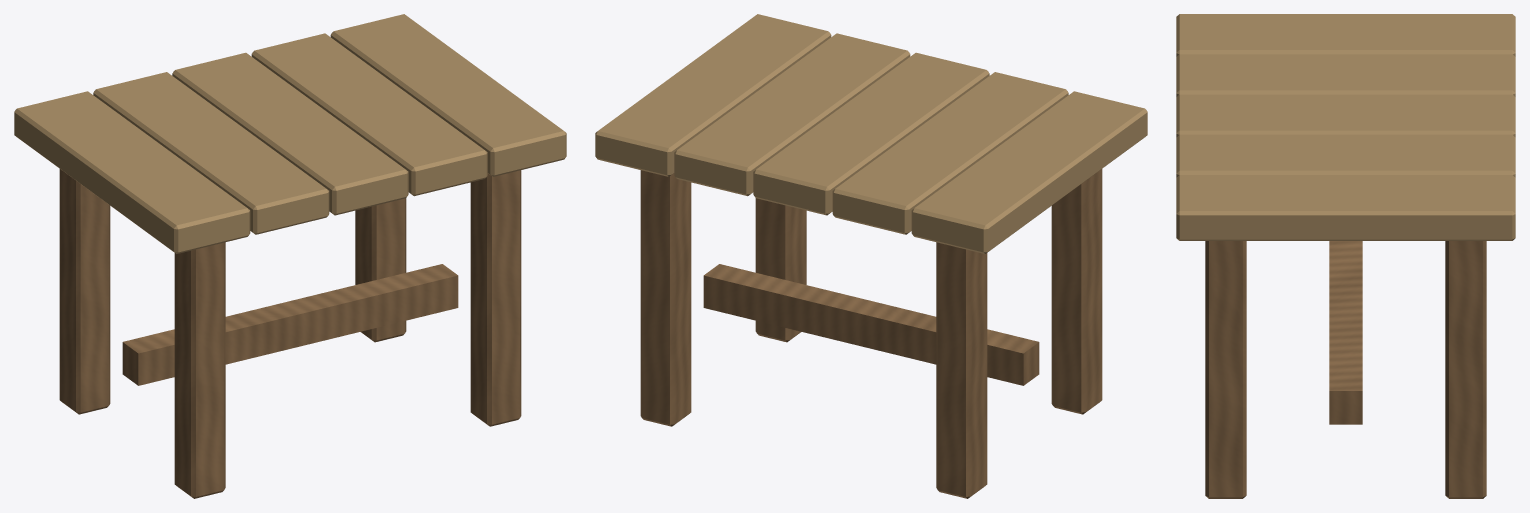
File: table.glb
3 views of the same model, side by side, from view 1: azimuth 30°, elevation 25°; view 2: azimuth 150°, elevation 25°; view 3: azimuth 270°, elevation 25° (orthographic). The views are drawn at different scales.
Visible parts, largest first — view 1: table; view 2: table; view 3: table.
Boxes of the visible parts, <box> form: table: <box>14,14,566,498</box>; table: <box>595,14,1147,498</box>; table: <box>1176,14,1515,498</box>.
Bounding box in the file's own units: 1.14 × 0.81 × 0.82.
Materials: 2 (1 with a texture image).
